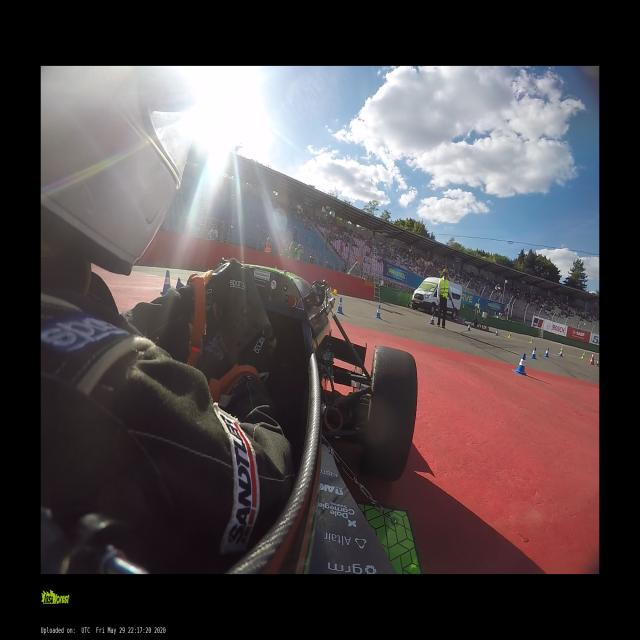blue_cone: (514, 353, 527, 376), (161, 270, 169, 292), (175, 277, 184, 289), (337, 297, 343, 314), (375, 305, 381, 319), (530, 347, 536, 359), (430, 314, 435, 325), (544, 348, 549, 358), (467, 324, 471, 331), (495, 329, 498, 336), (559, 349, 562, 356)
orange_cone: (589, 358, 592, 365), (596, 360, 599, 366), (592, 354, 594, 358)
yellow_cone: (332, 289, 337, 295), (508, 332, 511, 339), (581, 352, 584, 359), (530, 339, 532, 344), (562, 346, 563, 350)
